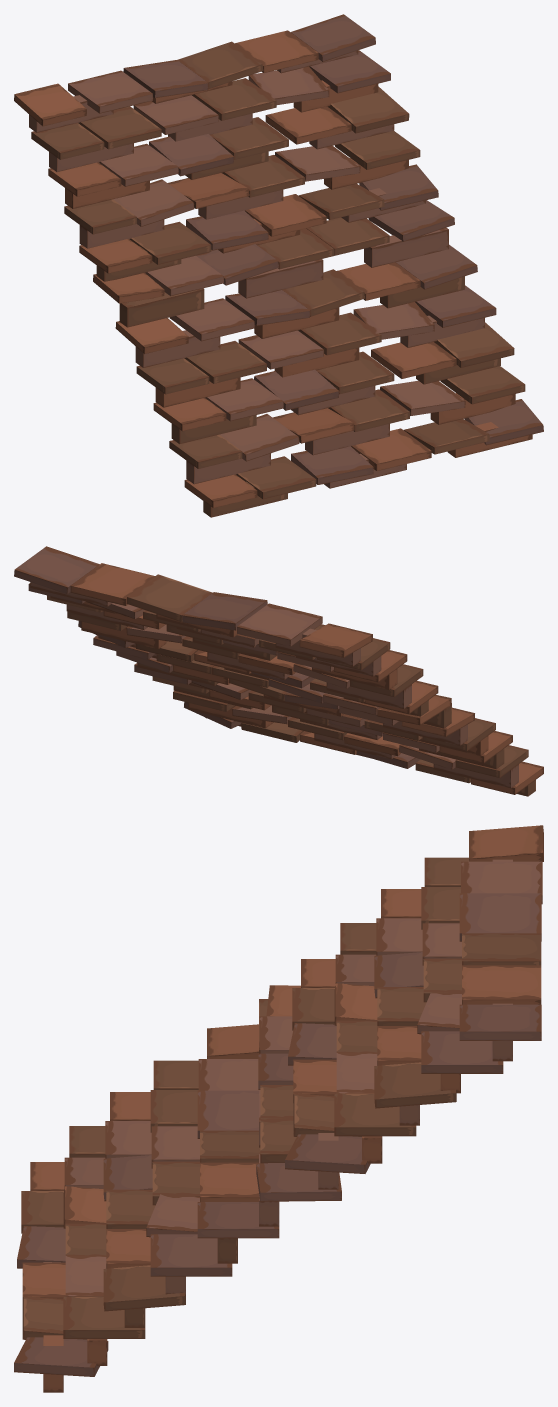
The model's file is StairsBrick.FBX.
The picture shows the model from 3 angles, top to bottom: view 1: azimuth 30°, elevation 25°; view 2: azimuth 150°, elevation 25°; view 3: azimuth 270°, elevation 25°; orthographic projection. The views are drawn at different scales.
Visible parts, largest first — view 1: StairsBrickFinal; view 2: StairsBrickFinal; view 3: StairsBrickFinal.
Boxes of the visible parts, left/top/right/bottom form: StairsBrickFinal: left=14, top=14, right=543, bottom=517; StairsBrickFinal: left=14, top=546, right=543, bottom=796; StairsBrickFinal: left=14, top=825, right=543, bottom=1392.
Bounding box in the file's own units: 6.06 × 4.88 × 6.45.
Materials: 1 (1 with a texture image).
